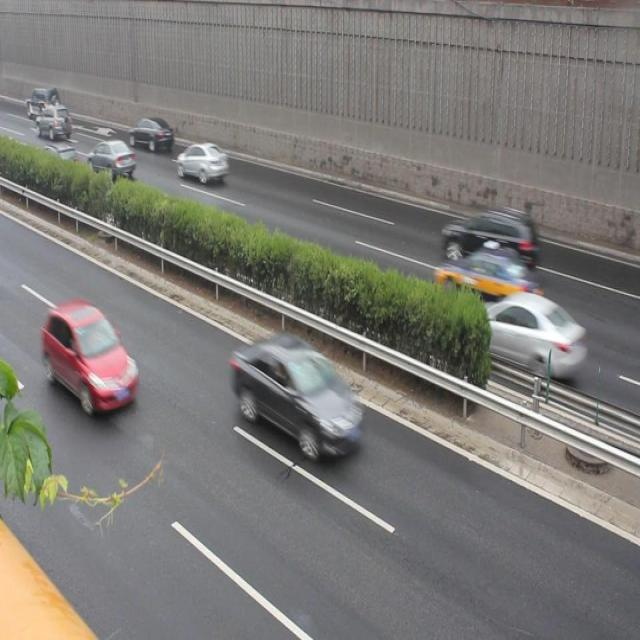car: (230, 333, 362, 460), (456, 292, 584, 379), (43, 300, 138, 412), (435, 241, 542, 317), (442, 206, 538, 270), (178, 142, 228, 188), (87, 140, 136, 184), (128, 117, 173, 153)
